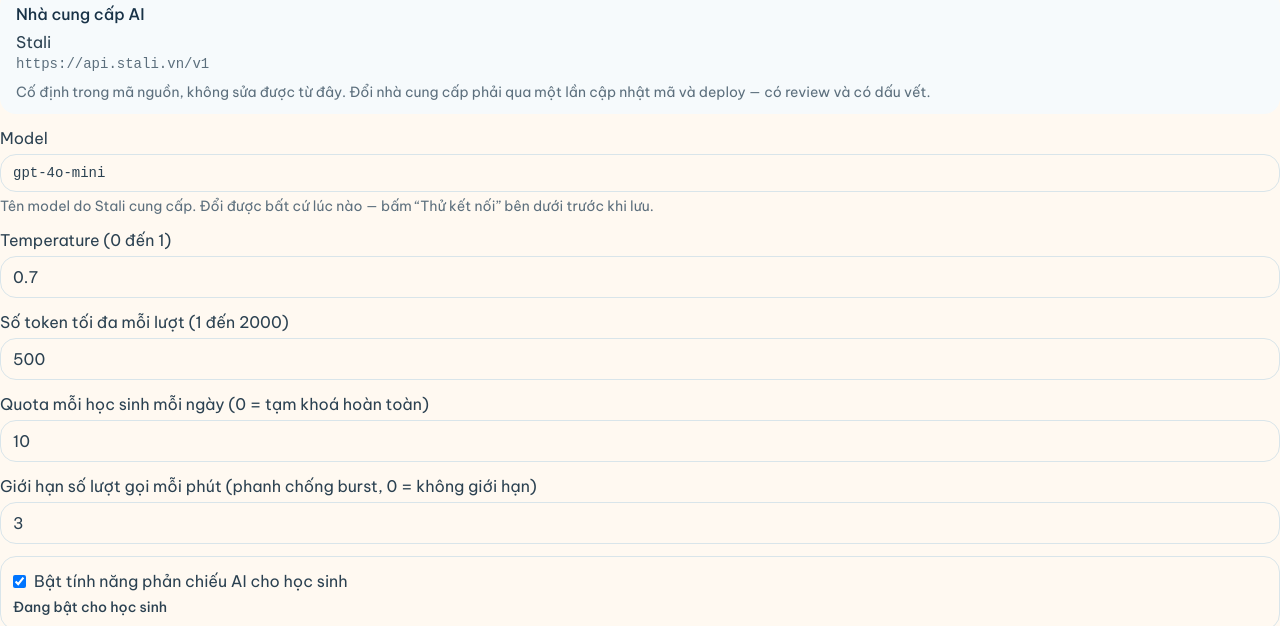
it: AiConfigEditor — kill switch (Decision D) › sau khi lưu thành công -> trạng thái tương lai biến mất, hiện đúng trạng thái đã lưu
Expected: the field labelled "Model" is shown, x1=0 y1=154 x2=1279 y2=192
Click the checkbox labelled "Bật tính năng phản chiếu AI cho học sinh": x=20, y=581 x1=13 y1=574 x2=26 y2=588
(page scrolled)
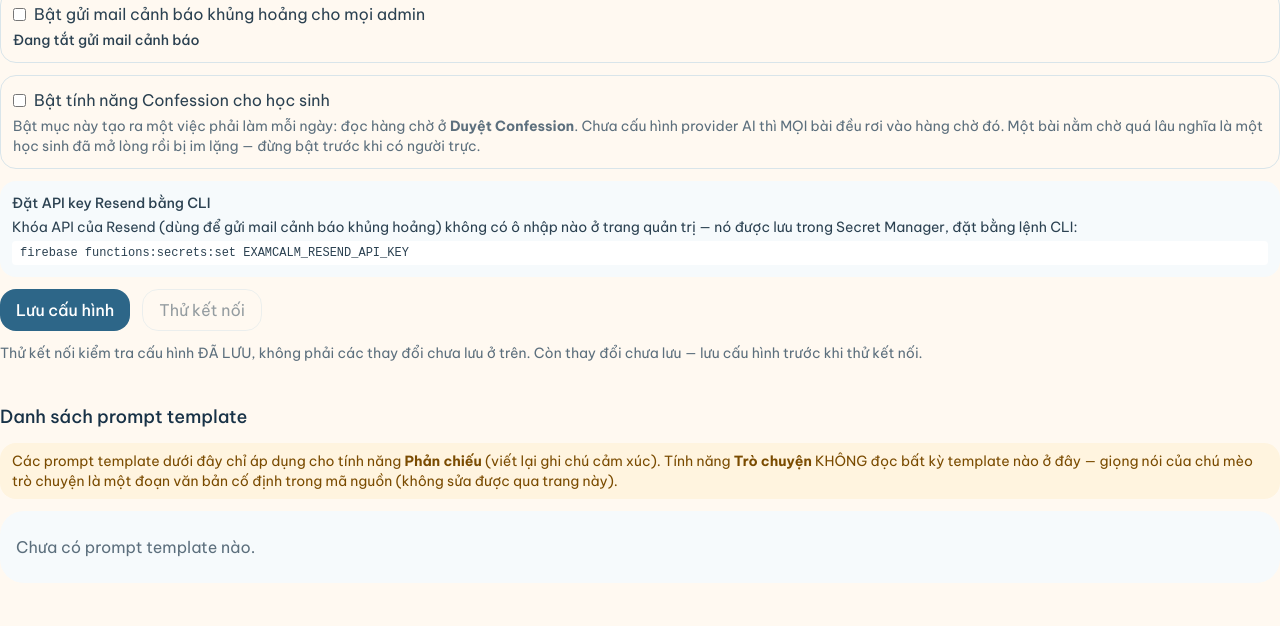
Click the button "Lưu cấu hình": x=65, y=310 x1=0 y1=289 x2=130 y2=331
(page scrolled)
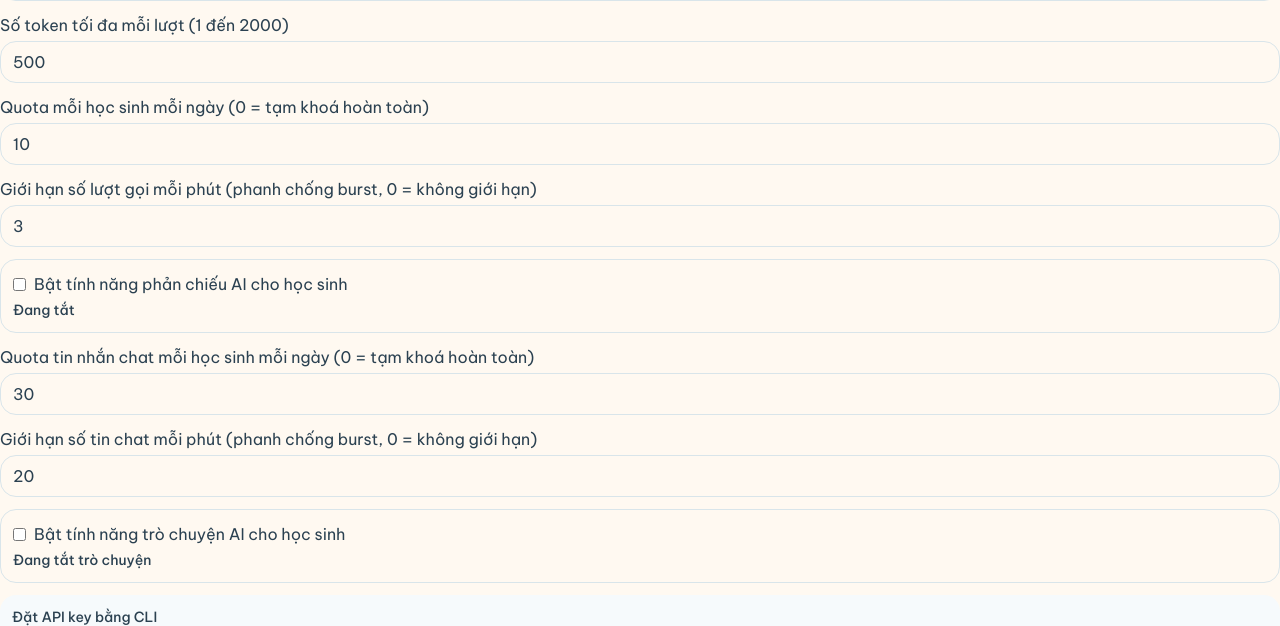
Expected: the text "Đang tắt" is shown, x1=13 y1=301 x2=75 y2=319
